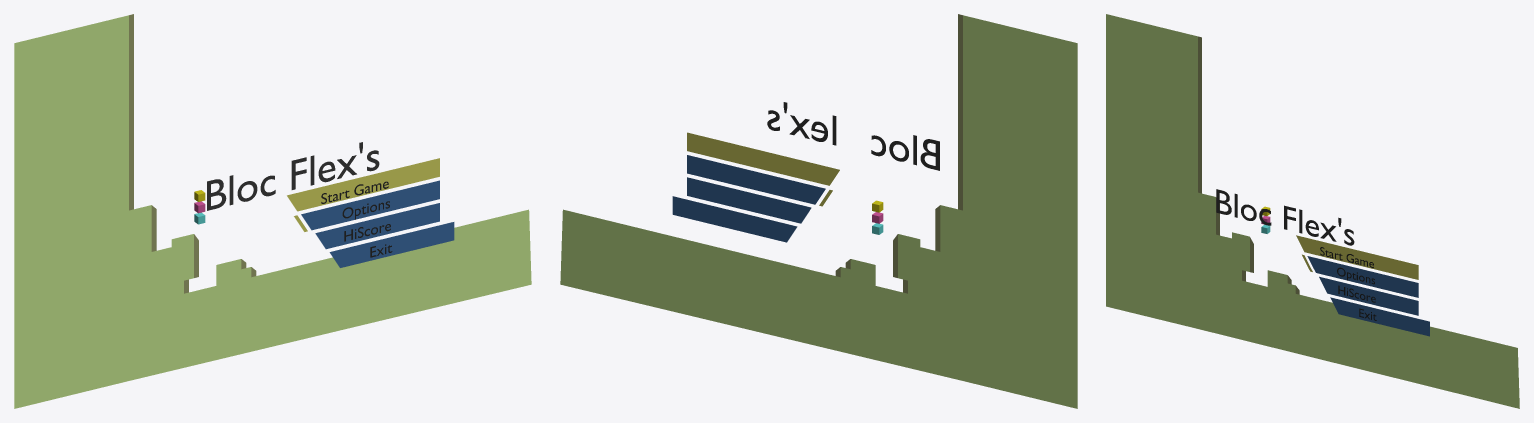
File: Blocflex's main menu.fbx
3 views of the same model, side by side, from view 1: azimuth 30°, elevation 25°; view 2: azimuth 150°, elevation 25°; view 3: azimuth 330°, elevation 25° (orthographic). The views are drawn at different scales.
Visible parts, largest first — view 1: Plane.013, Plane.009, Plane.011, Plane.016, Plane.012, Text.007; view 2: Plane.013, Plane.009, Plane.011, Plane.016, Plane.012, Text.007; view 3: Plane.013, Plane.009, Plane.011, Plane.016, Plane.012, Text.007.
Boxes of the visible parts, x1,y1,x2,y2 form: Plane.013: (14, 14, 531, 408); Plane.009: (287, 158, 439, 211); Plane.011: (301, 180, 439, 230); Plane.016: (329, 222, 454, 267); Plane.012: (315, 203, 439, 249); Text.007: (207, 142, 379, 210); Plane.013: (560, 14, 1077, 408); Plane.009: (687, 132, 839, 185); Plane.011: (687, 155, 825, 204); Plane.016: (672, 196, 797, 242); Plane.012: (687, 177, 811, 223); Text.007: (767, 102, 939, 170); Plane.013: (1106, 14, 1519, 408); Plane.009: (1296, 235, 1418, 279); Plane.011: (1307, 256, 1418, 297); Plane.016: (1330, 297, 1429, 336); Plane.012: (1319, 276, 1418, 315); Text.007: (1216, 189, 1354, 245).
Bounding box in the file's own units: 14510 × 9855 × 1780.
